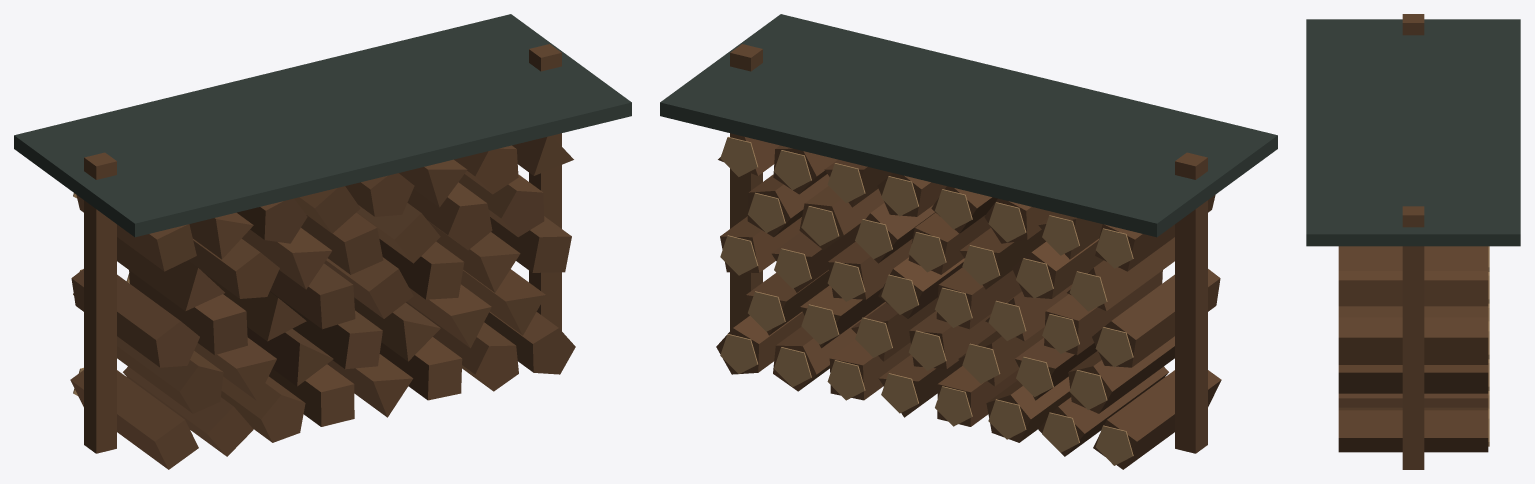
The model's file is firewood.glb.
The picture shows the model from 3 angles, left to right: view 1: azimuth 30°, elevation 25°; view 2: azimuth 150°, elevation 25°; view 3: azimuth 270°, elevation 25°; orthographic projection. The views are drawn at different scales.
Parts seen in each view (by area): view 1: firewood; view 2: firewood; view 3: firewood.
Boxes of the visible parts, <box> form: firewood: <box>14,14,631,469</box>; firewood: <box>660,14,1277,469</box>; firewood: <box>1306,14,1520,469</box>.
Bounding box in the file's own units: 1.9 × 1.05 × 0.8.
